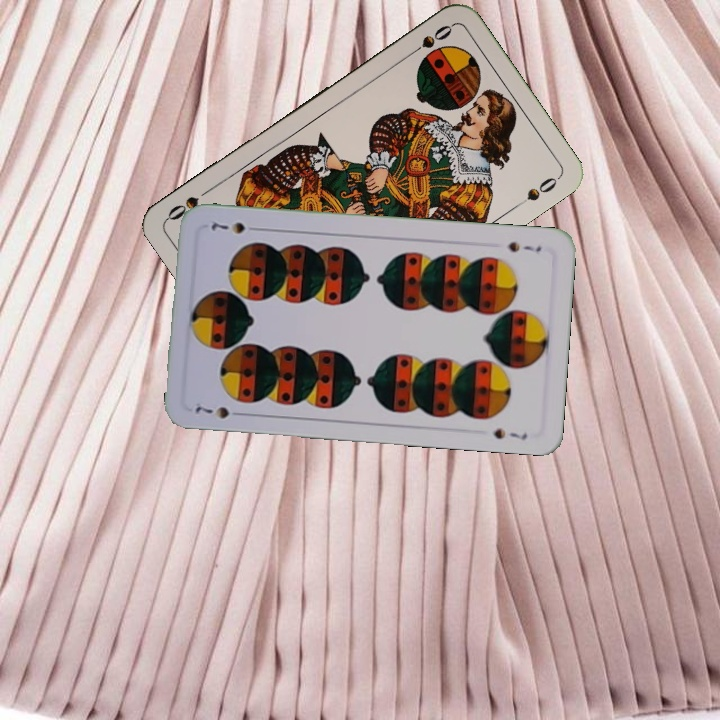S7: (191, 400, 247, 421), (504, 237, 544, 255)
SO: (403, 20, 455, 60)
